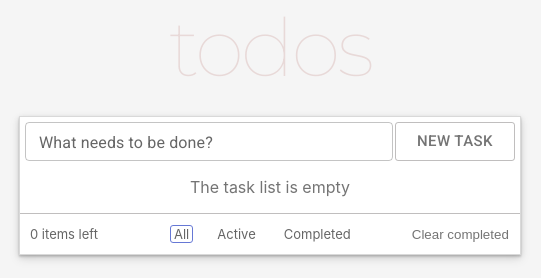
New task › new task should be added
Step 1. Type "test" into the field with test id "input" → (209, 142), box top-left (25, 122), bottom-right (393, 161)
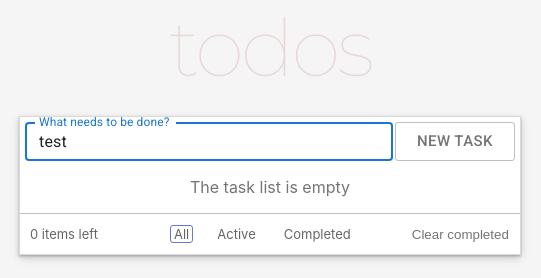
Step 2. Click the button with test id "new-task" → (455, 142), box top-left (395, 122), bottom-right (515, 161)
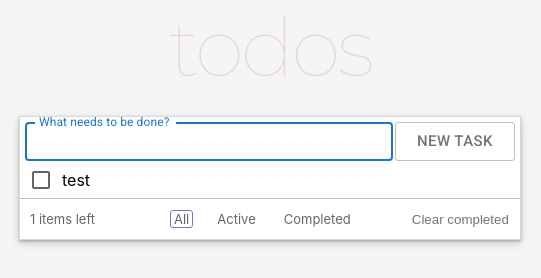
Expected: the field with test id "input" is empty, top-left (25, 122), bottom-right (393, 161)
Expected: the text with test id "new-text" reads "test", top-left (62, 170), bottom-right (90, 190)
